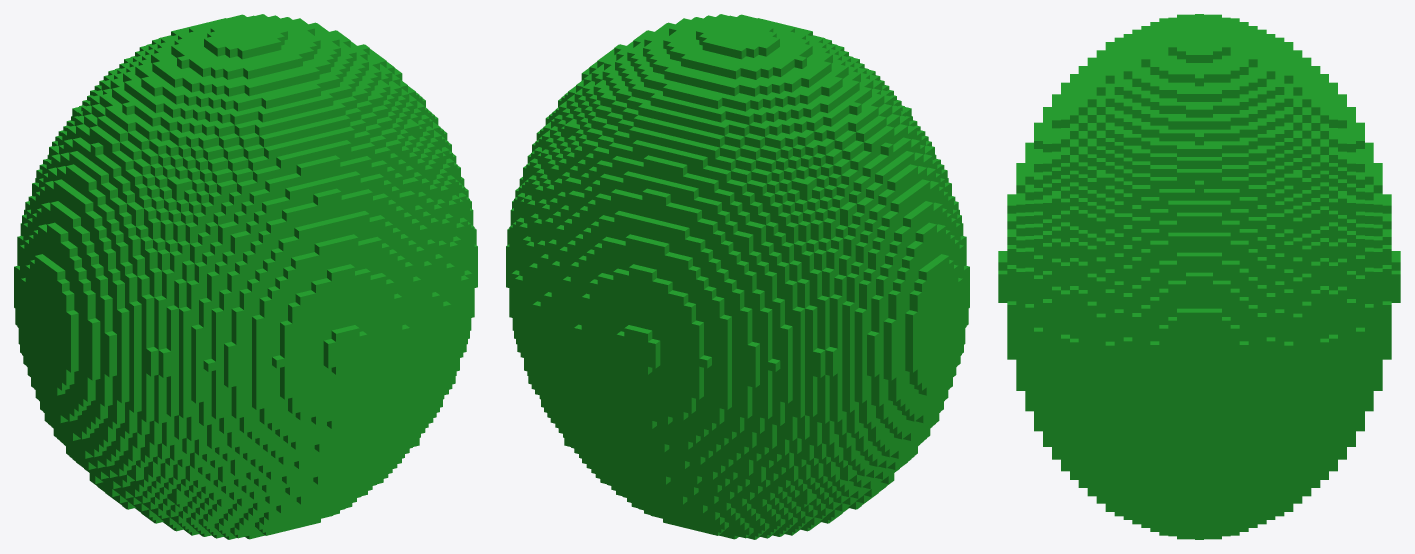
The model's file is simple_obj_label0.obj.
3 views of the same model, side by side, from view 1: azimuth 30°, elevation 25°; view 2: azimuth 150°, elevation 25°; view 3: azimuth 270°, elevation 25° (orthographic).
Size of the model in its own units: 51 by 59 by 45.
